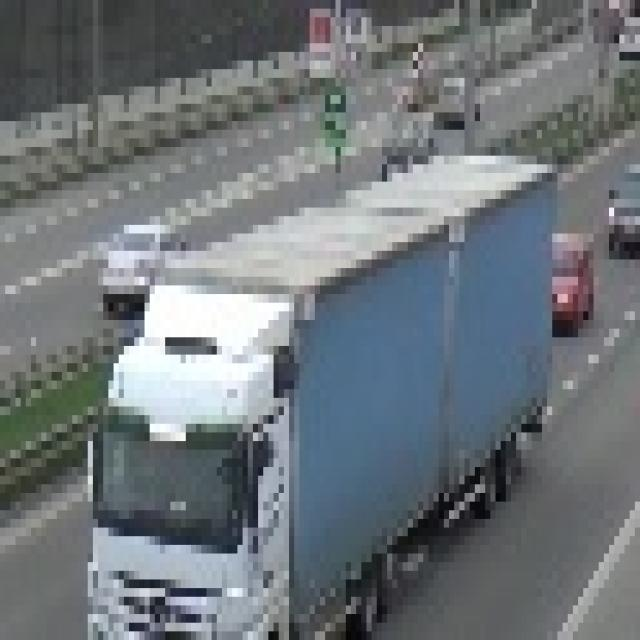SUV: (609, 160, 640, 255)
TRUCK: (84, 156, 546, 637)
